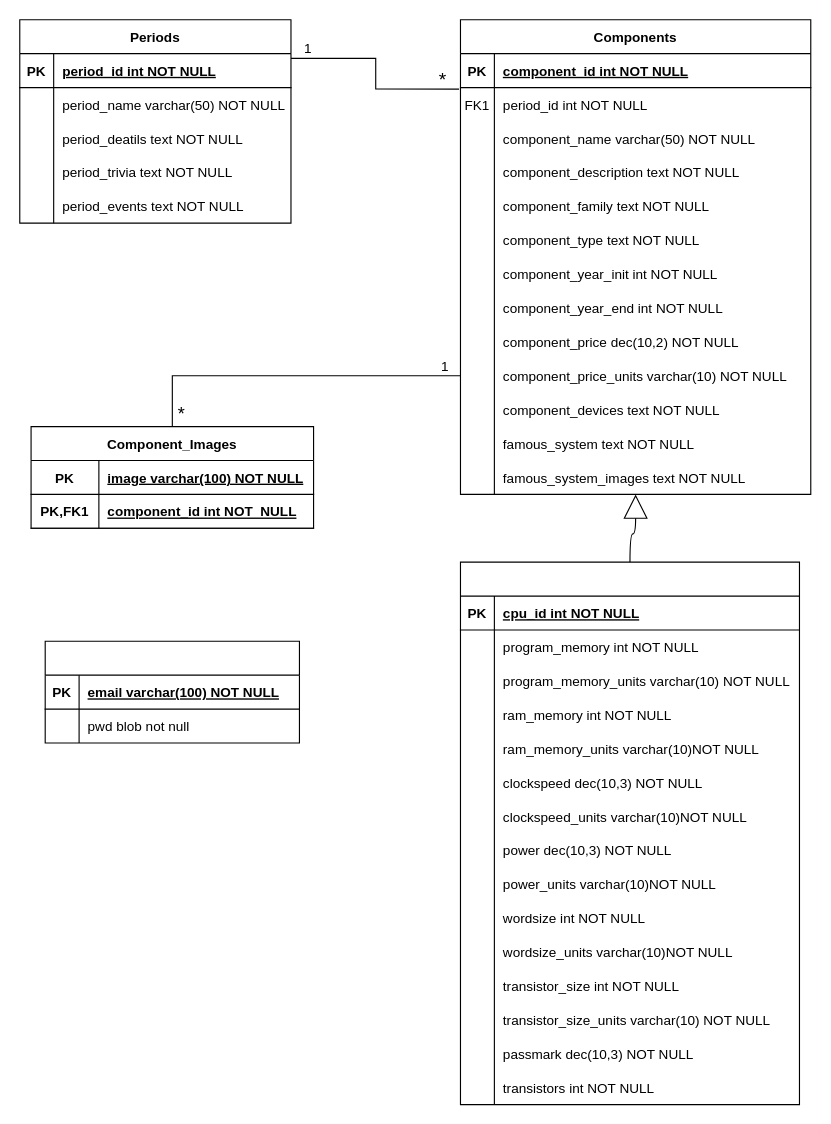
Image size: 831x1124. Some labels were removed from this diagram. Here are the shapes that lost their labels. From the top down, the box of each, then its label:
(44, 640, 299, 743): Administrator
(459, 561, 799, 1105): CPUs
